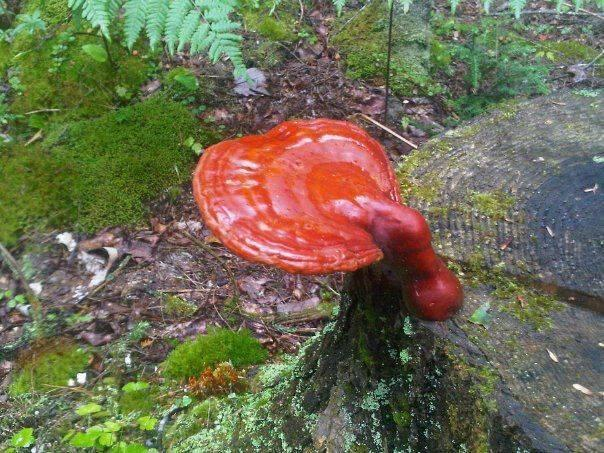poisonous_mushroom: (190, 116, 464, 322)
